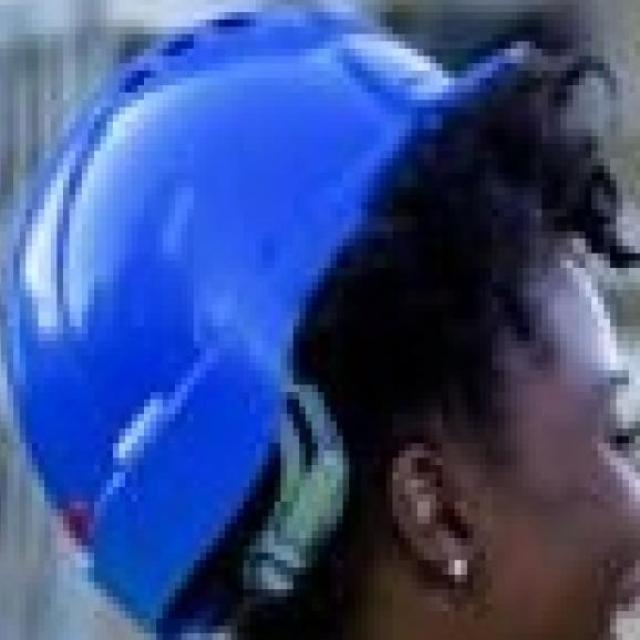helmet: (0, 0, 569, 632)
